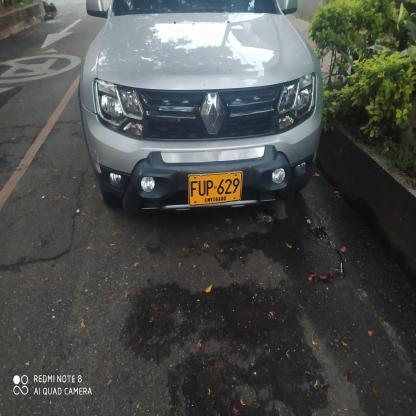placa: (185, 170, 246, 209)
